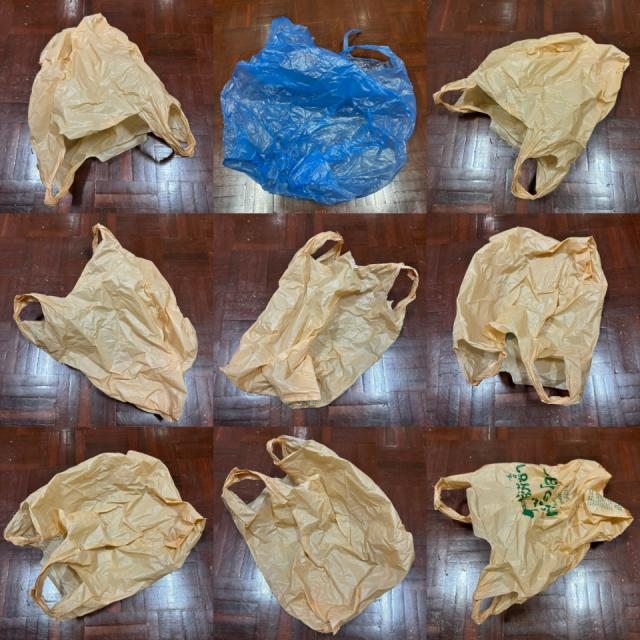Single-layer Plastic: (222, 435, 415, 633), (14, 224, 198, 422), (221, 18, 416, 204), (221, 231, 419, 409), (4, 450, 205, 620), (434, 32, 630, 199), (434, 459, 632, 623), (29, 14, 196, 206), (452, 228, 608, 404)
